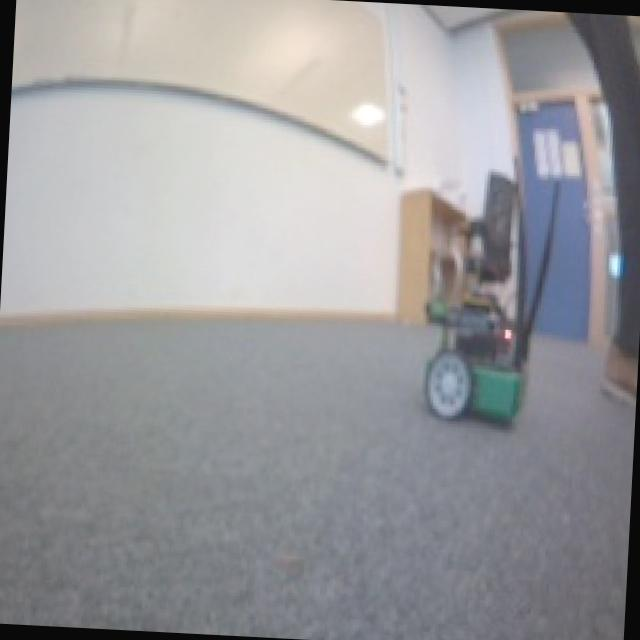robot: (419, 292, 530, 428)
